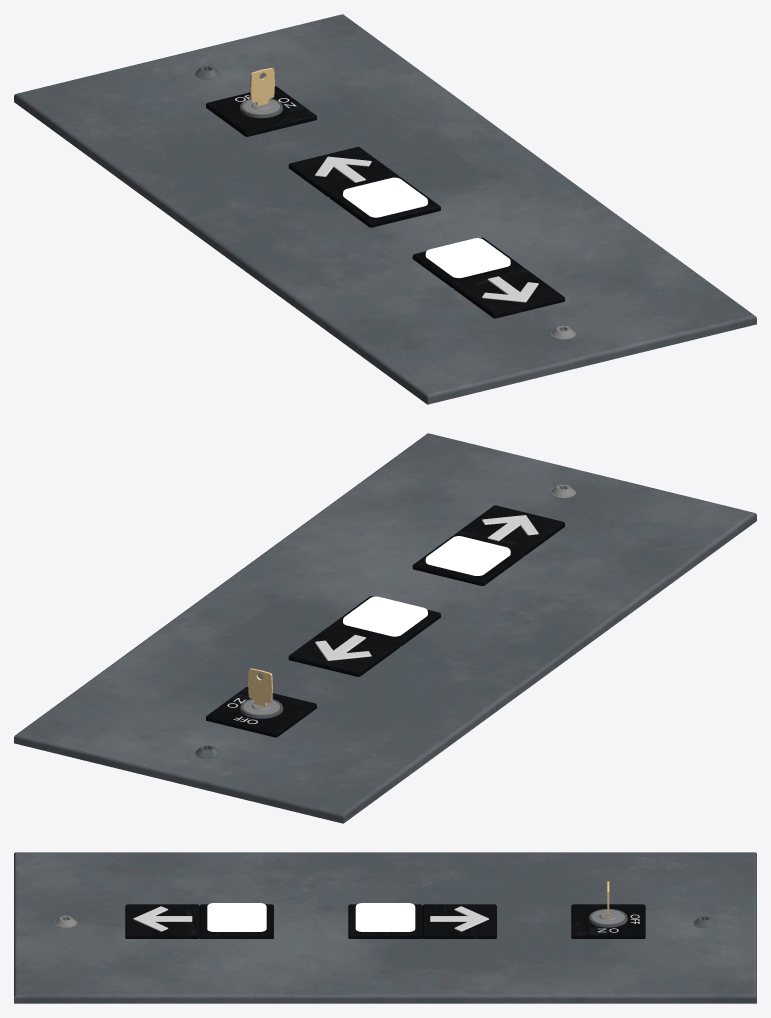
The model's file is GUMBI.gltf.
3 views of the same model, one above another, from view 1: azimuth 30°, elevation 25°; view 2: azimuth 150°, elevation 25°; view 3: azimuth 270°, elevation 25° (orthographic). The views are drawn at different scales.
Parts seen in each view (by area): view 1: Elevaotor Buttons; view 2: Elevaotor Buttons; view 3: Elevaotor Buttons.
Part boxes in pixels (box(x1,y1,x2,y2)): Elevaotor Buttons: box(14, 14, 756, 404); Elevaotor Buttons: box(14, 433, 756, 823); Elevaotor Buttons: box(14, 852, 756, 1003).
Size of the model in its own units: 0.46 by 0.0696 by 1.
Materials: 8 (4 with a texture image).
